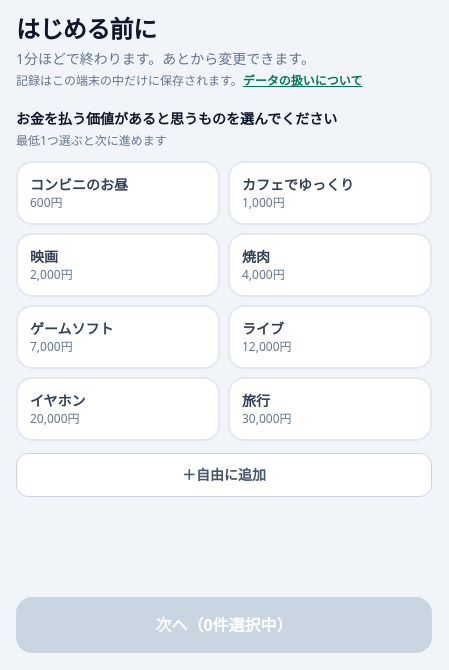
Test: オンボーディング › 候補を1件選ぶと次へ進める
The width and height of the screenshot is (449, 670).
What coordinates should you click on to do the following:
click the button "焼肉 4,000円"
I would click on:
 (330, 265)
Its box is [228, 233, 432, 297].
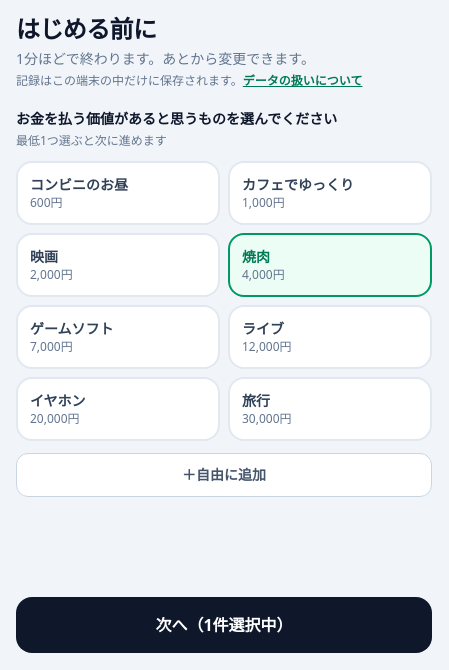
Check: the button "次へ（1件選択中）" is enabled, box [16, 597, 432, 653]
